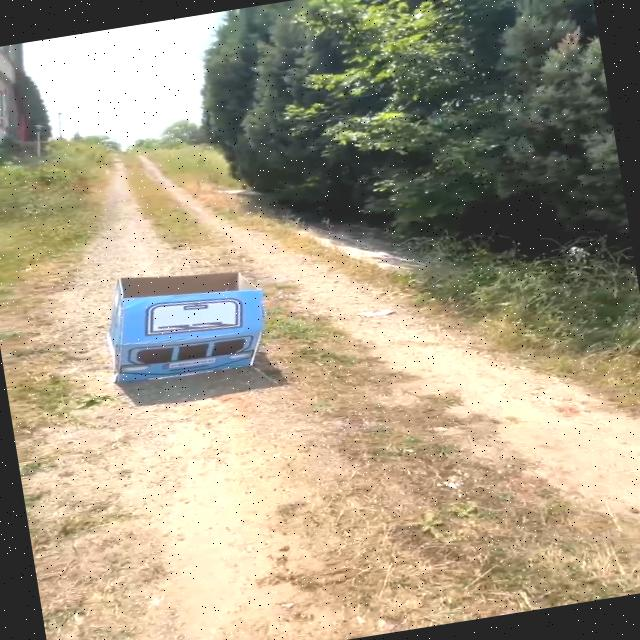blue_car: (80, 239, 289, 402)
